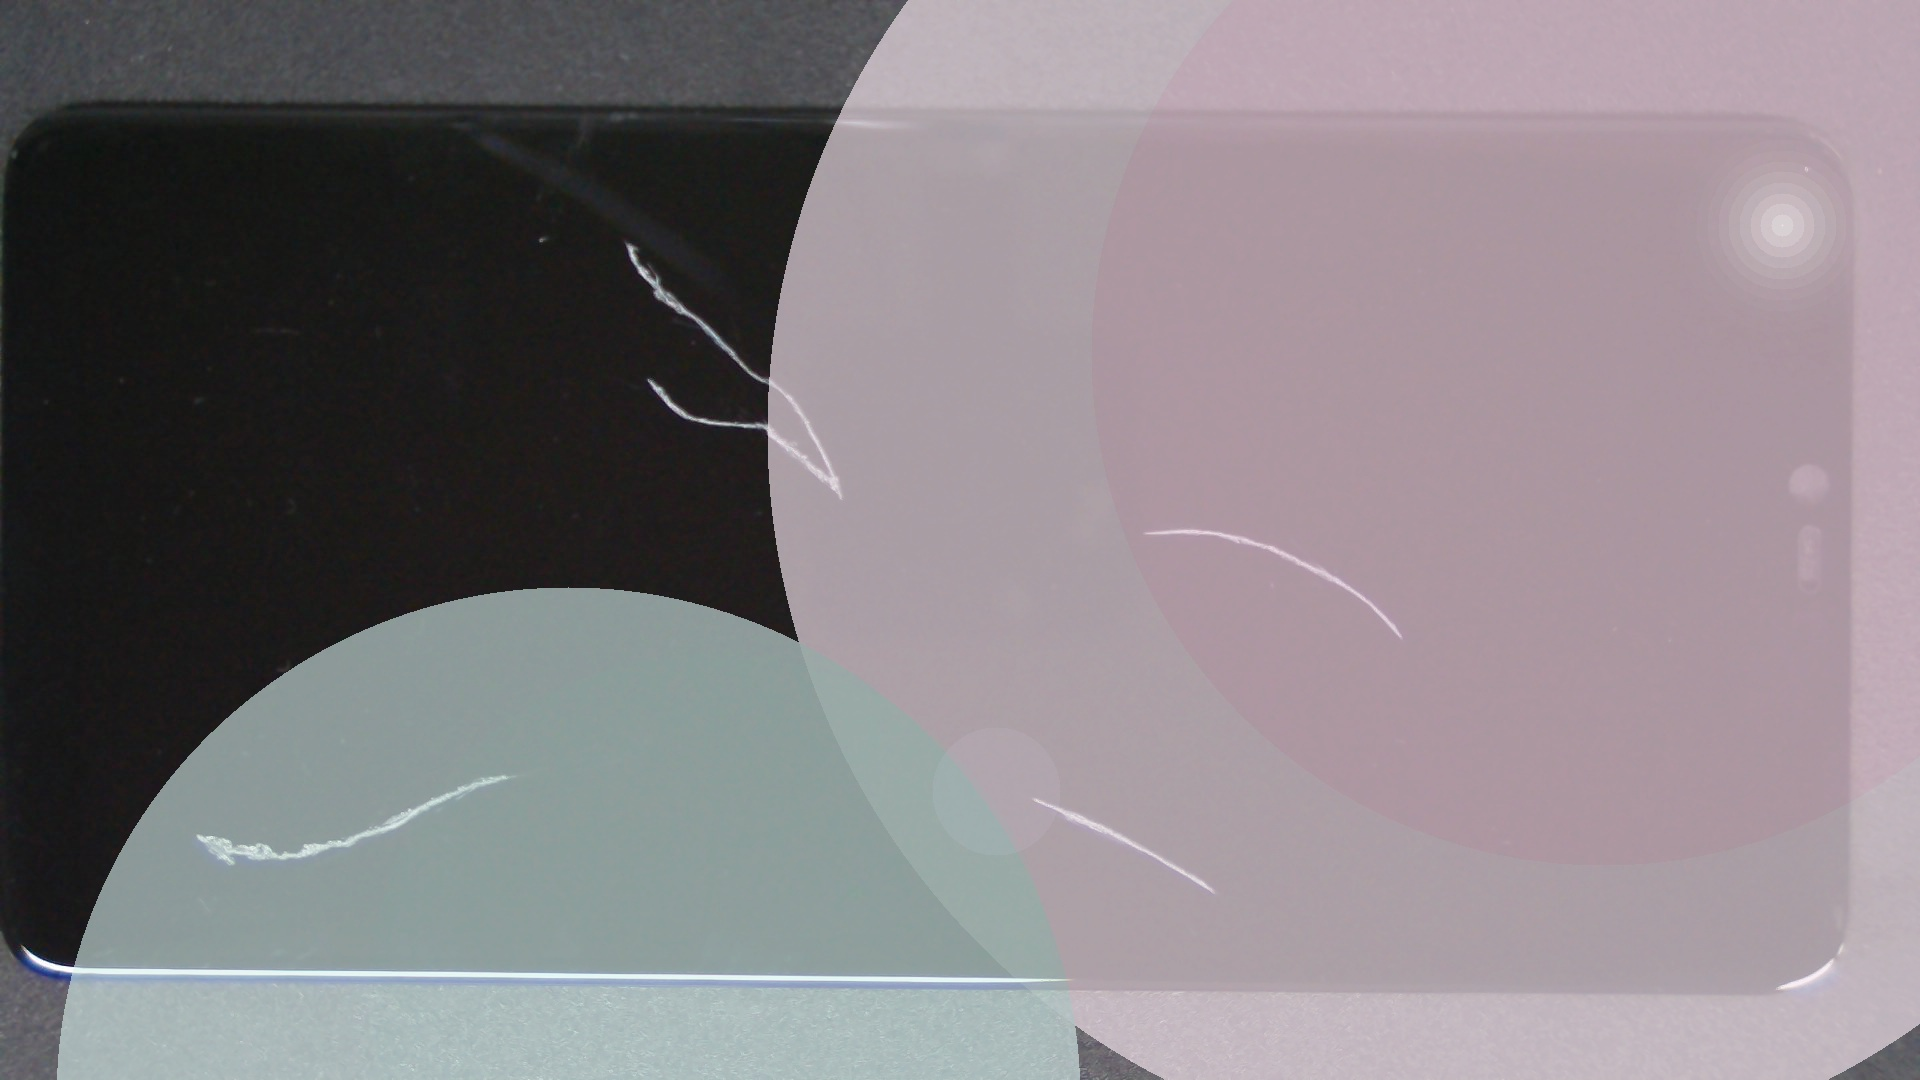oil: (516, 397, 1548, 1080), (599, 263, 1795, 791), (254, 386, 759, 1080), (311, 116, 934, 361)
